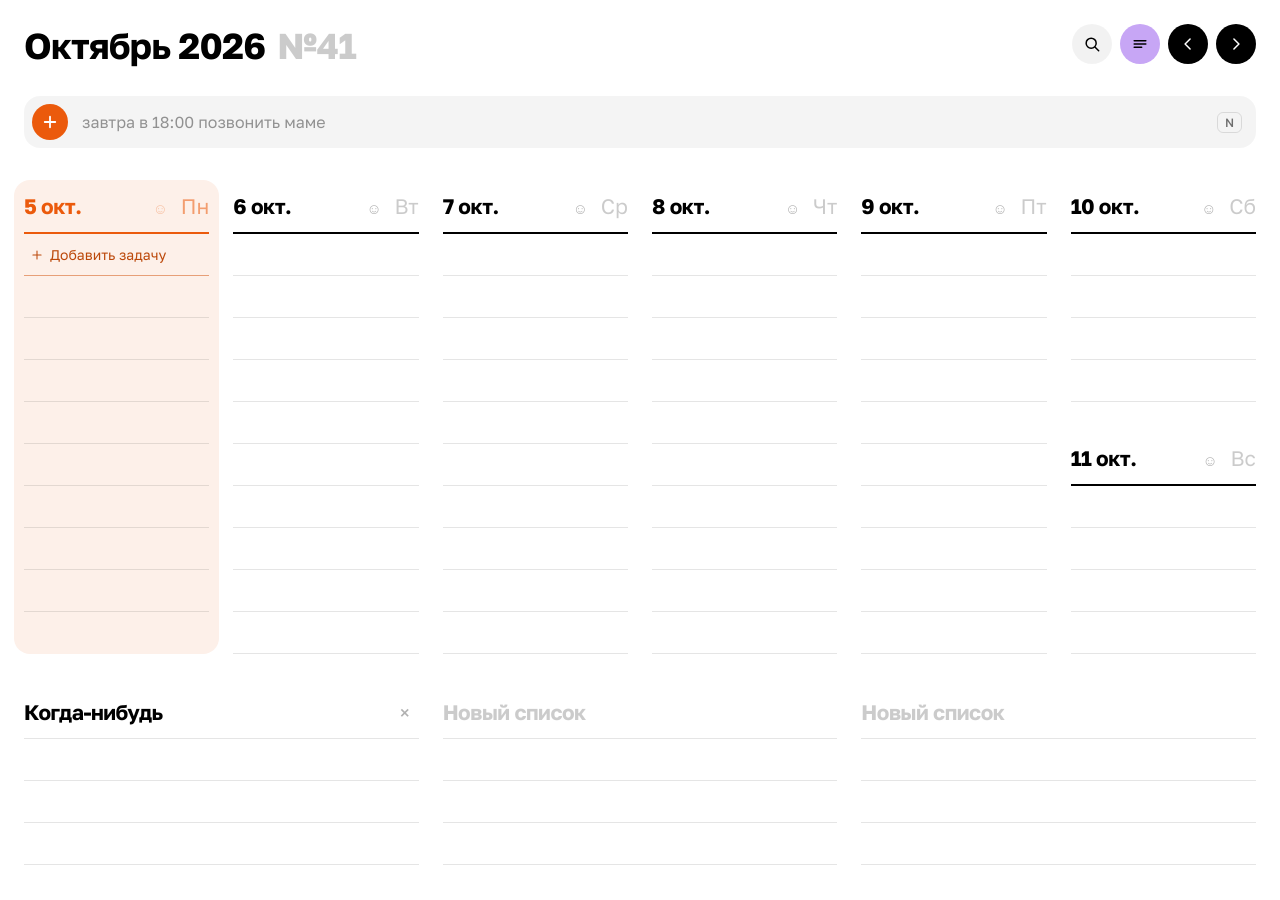
Test: меню › свой цвет в тёмной теме не трогает светлую и не перекрашивает фон
Step 1. Click the button named "Меню" → click(1140, 44), box [1120,24,1160,64]
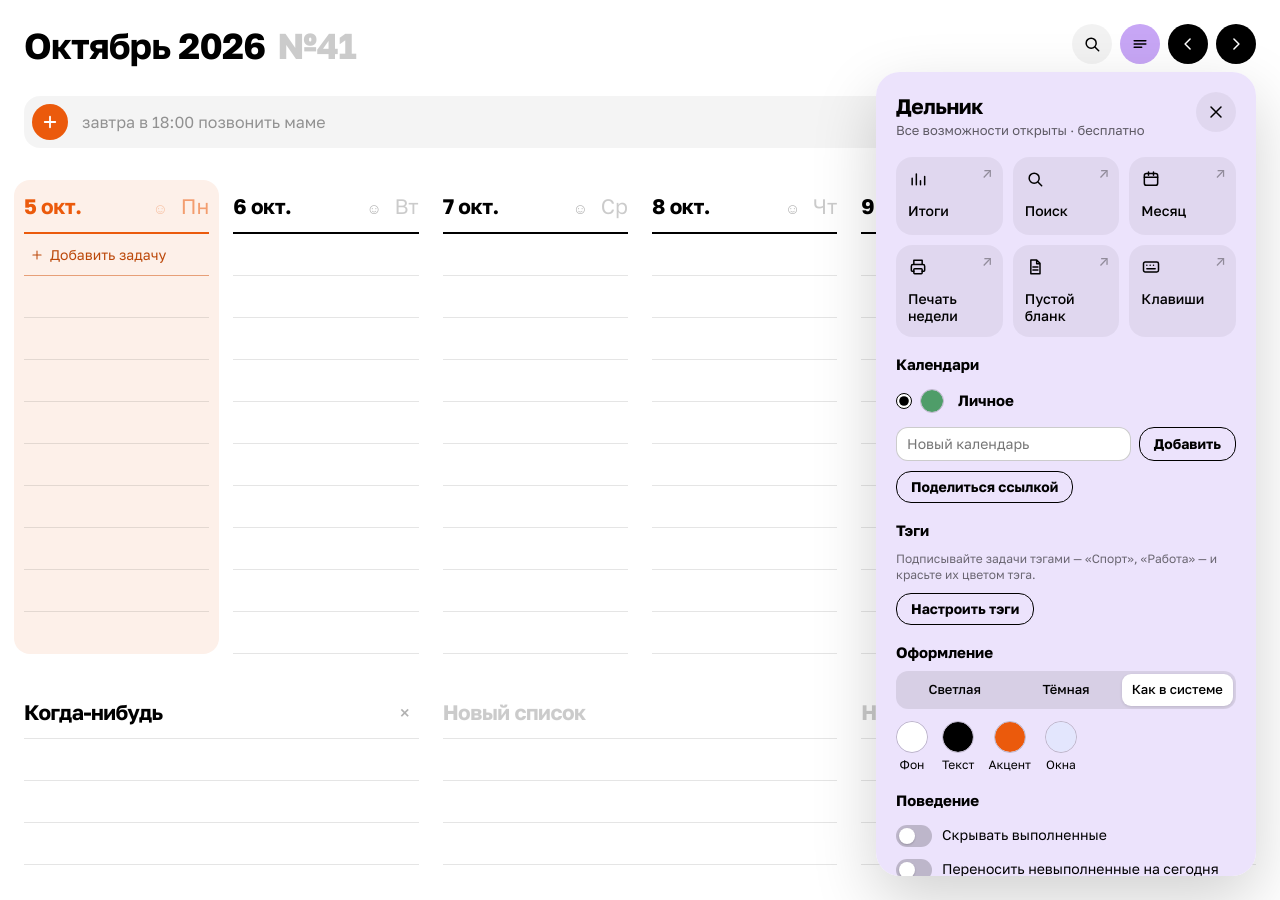
Step 2. Click the radio button labelled "Тёмная" → click(1066, 690), box [1010,674,1122,706]
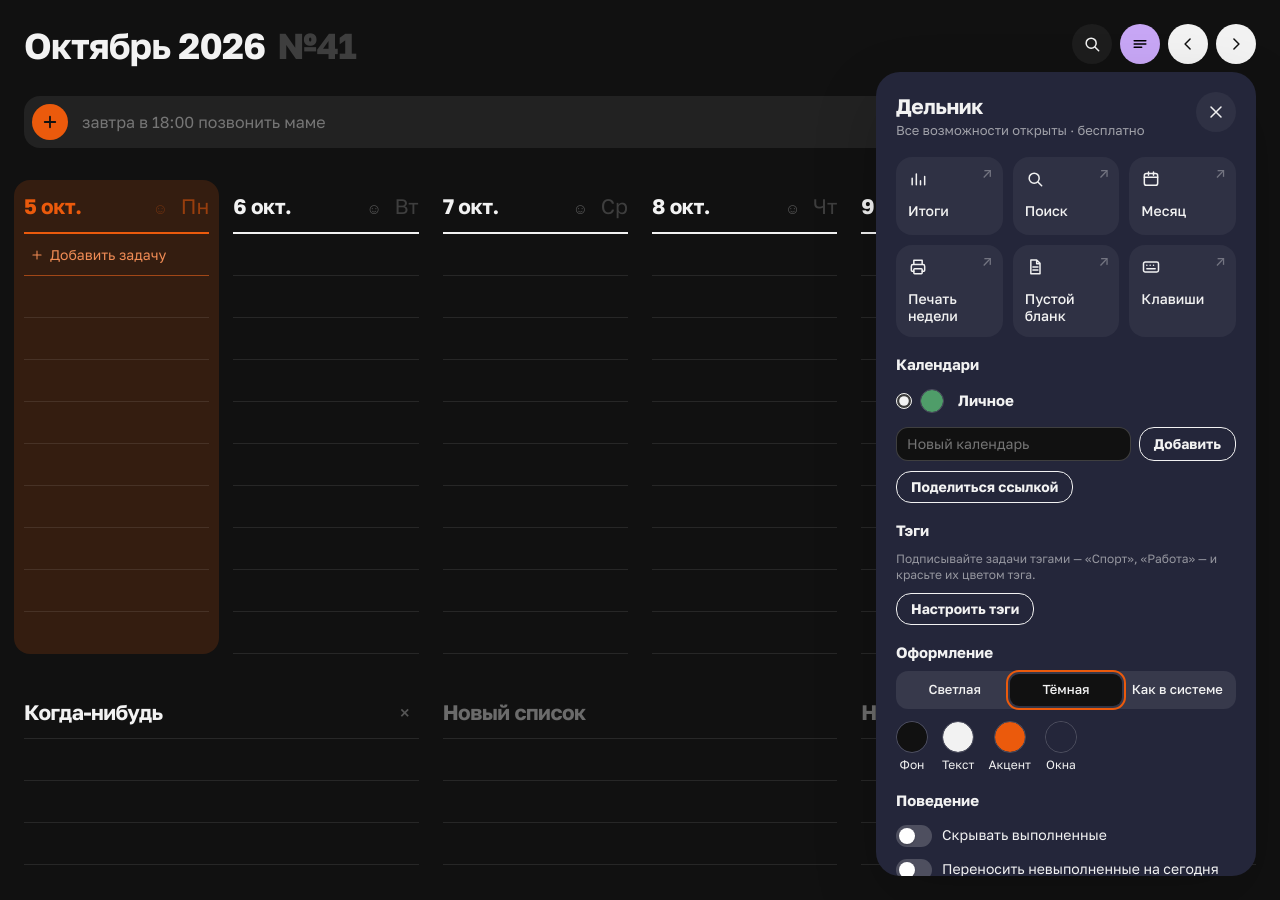
expect the colour field named "Цвет: Фон" holds "#111111": met, box [896,721,928,753]
Step 3. Type "#8b5e3c" into the colour field named "Цвет: Акцент" → (1010, 737), box [994,721,1026,753]
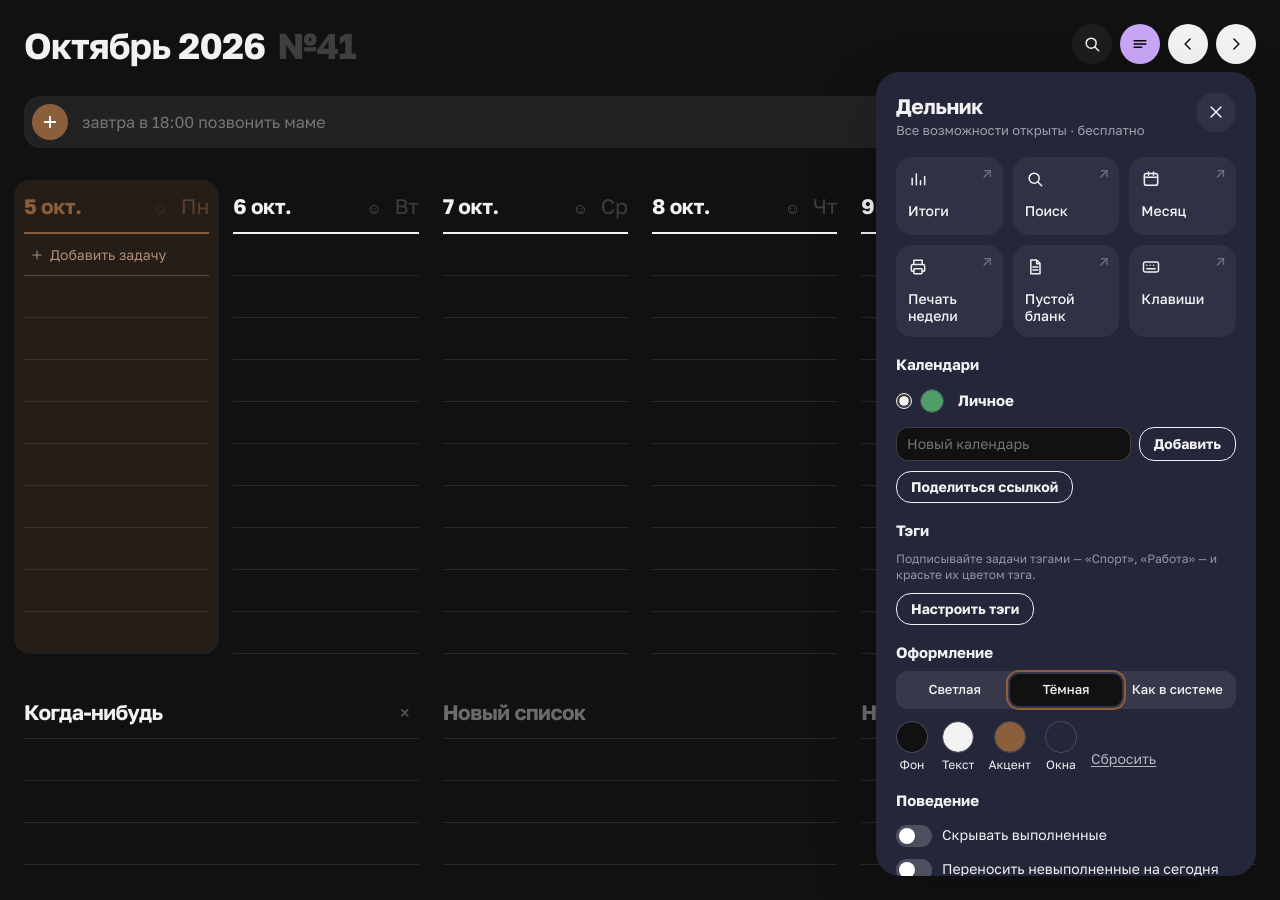
Step 4. Click the radio button labelled "Светлая" → click(955, 690), box [899,674,1010,706]
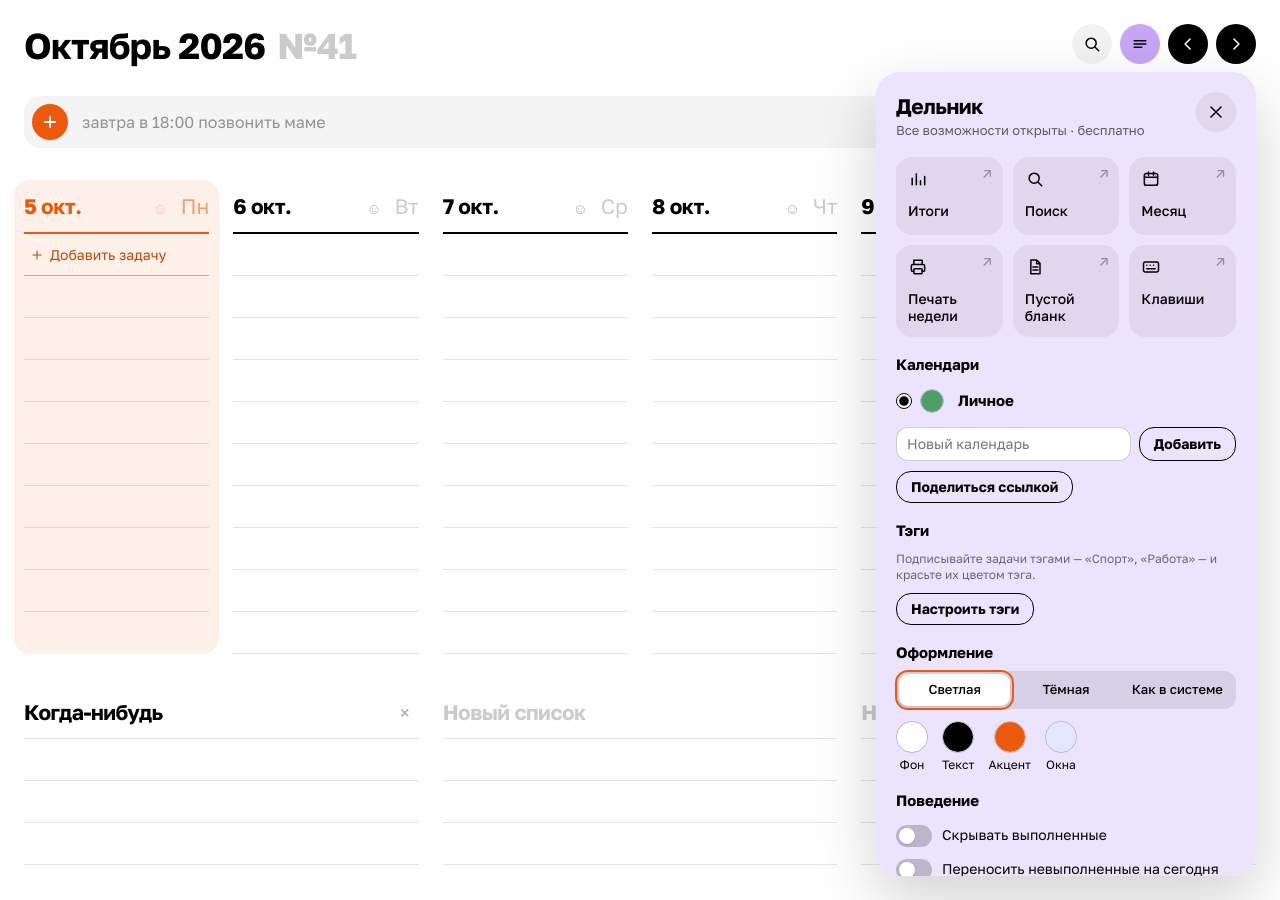
expect the colour field named "Цвет: Фон" holds "#ffffff": met, box [896,721,928,753]
